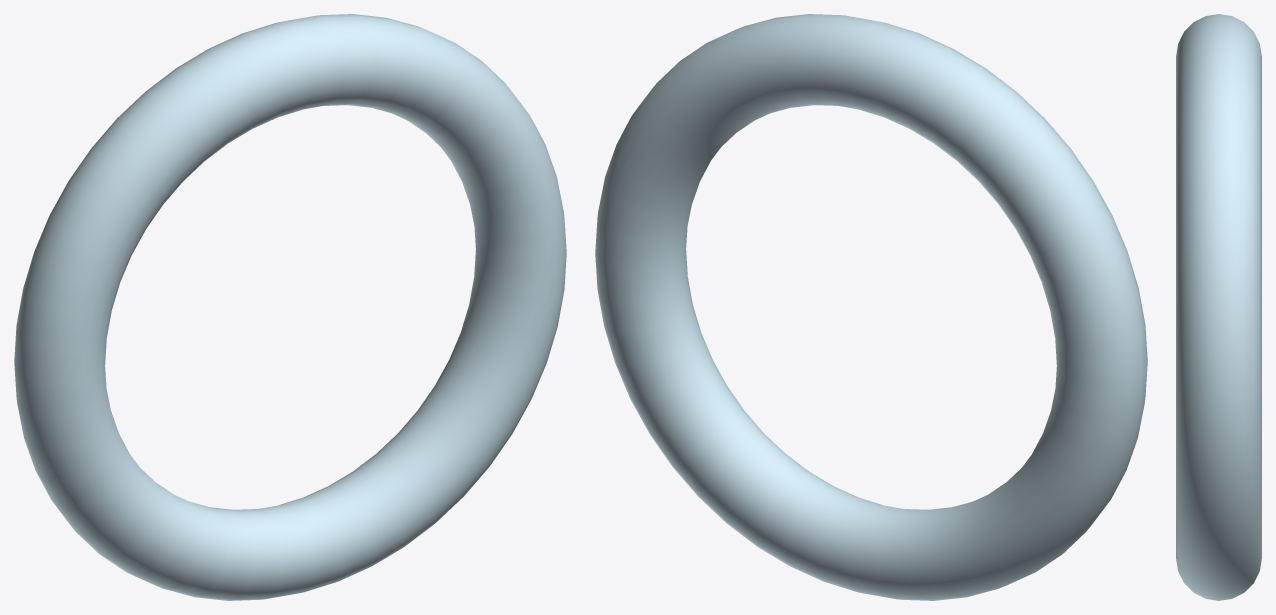
File: diamond_pin.glb
3 views of the same model, side by side, from view 1: azimuth 30°, elevation 25°; view 2: azimuth 150°, elevation 25°; view 3: azimuth 270°, elevation 25° (orthographic). The views are drawn at different scales.
Bounding box in the file's own units: 0.82 × 0.82 × 0.12.
